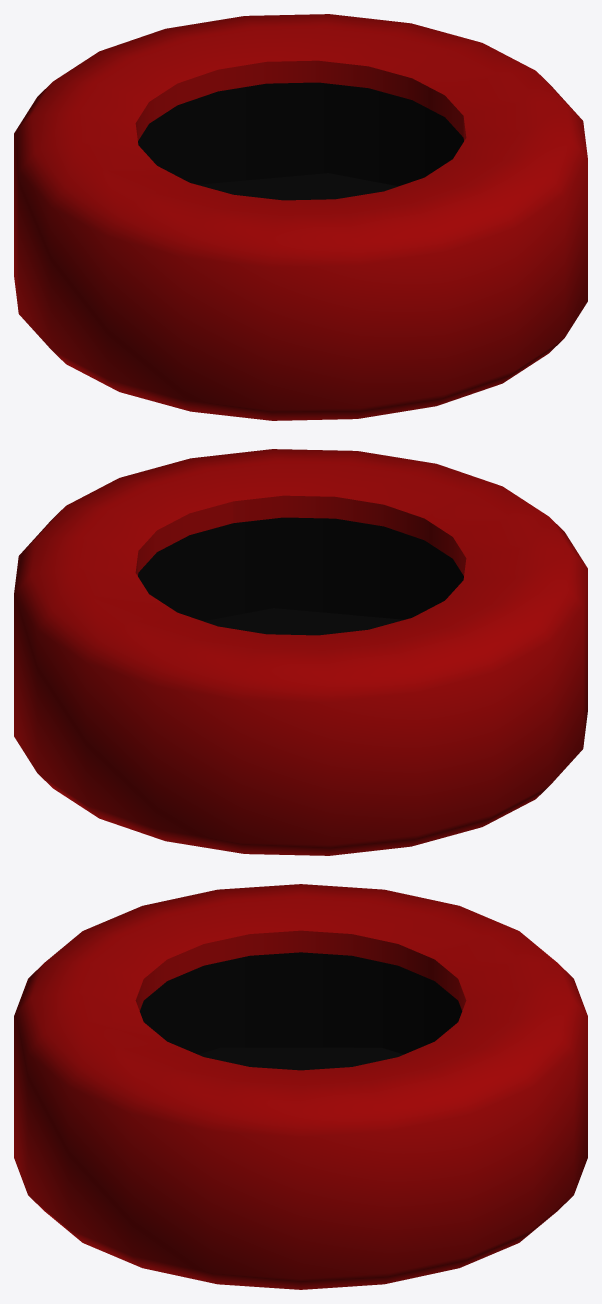
File: prop_tyre_1x1_A.FBX
3 renders of one model, top to bottom at view 1: azimuth 30°, elevation 25°; view 2: azimuth 150°, elevation 25°; view 3: azimuth 270°, elevation 25°, orthographic.
Visible parts, largest first — view 1: prop_tyre_1; view 2: prop_tyre_1; view 3: prop_tyre_1.
Part boxes in pixels (x1,y1,x2,y2): prop_tyre_1: (14, 14, 587, 420); prop_tyre_1: (14, 449, 587, 855); prop_tyre_1: (14, 884, 587, 1289).
Size of the model in its own units: 33.16 by 12.12 by 33.16.
1 material, 1 textured.
